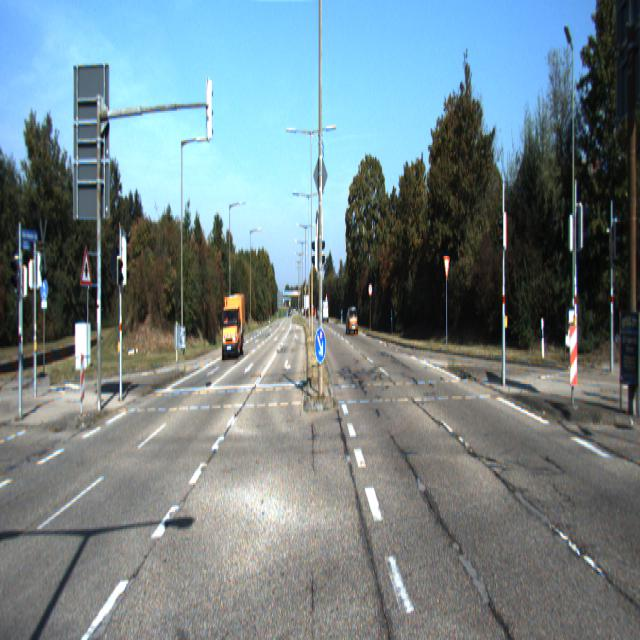Car: (217, 292, 245, 362), (347, 306, 358, 334)
